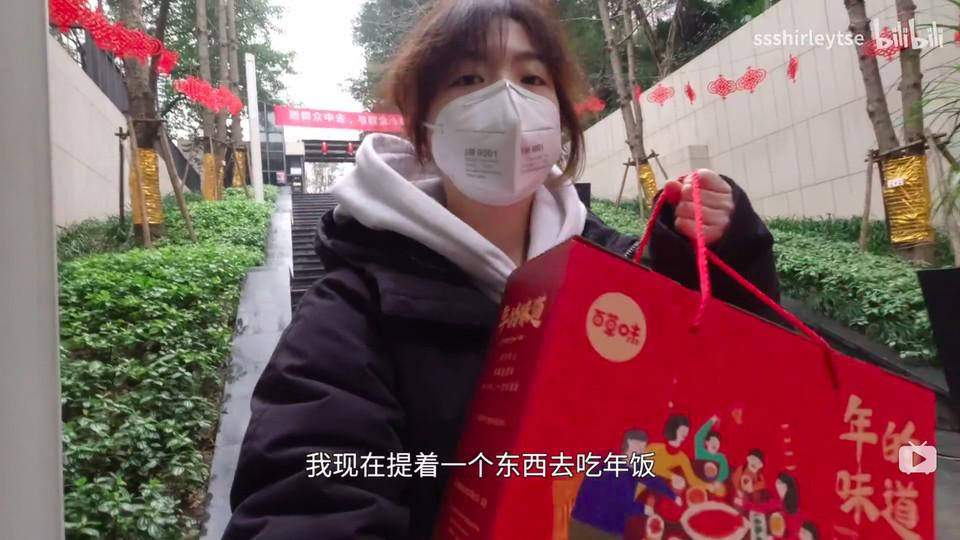OK: (434, 47, 566, 203)
